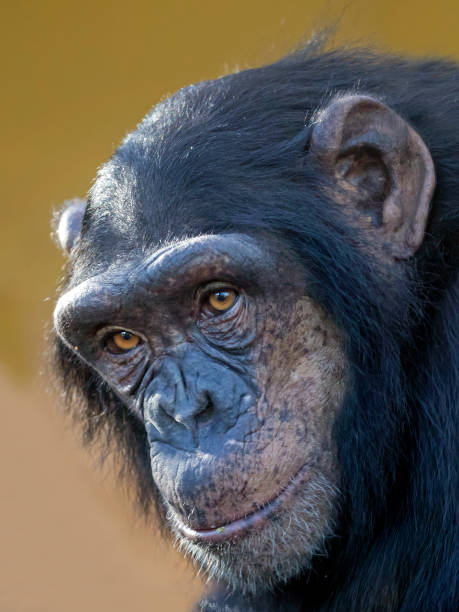chimpanzee: (8, 22, 459, 612)
